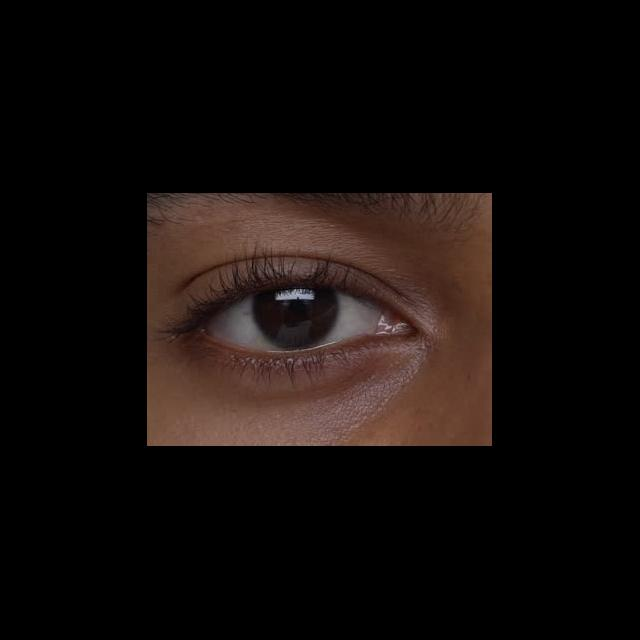eye: (202, 285, 388, 356)
iris: (253, 287, 338, 350)
